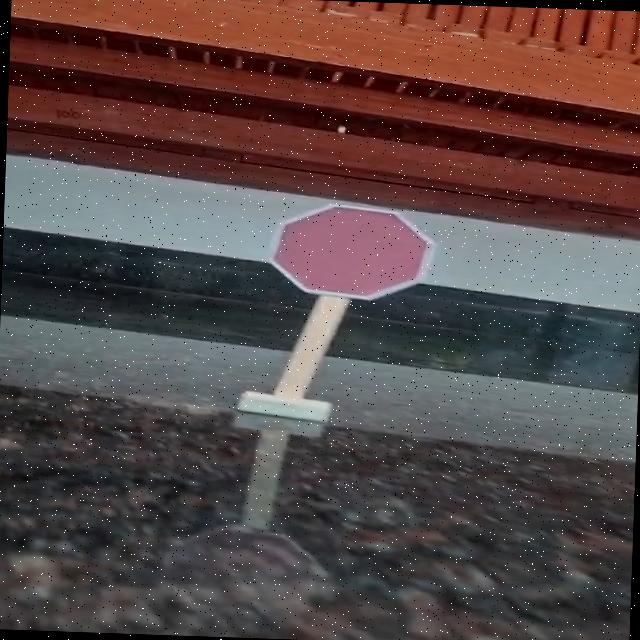Stop: (266, 195, 432, 302)
